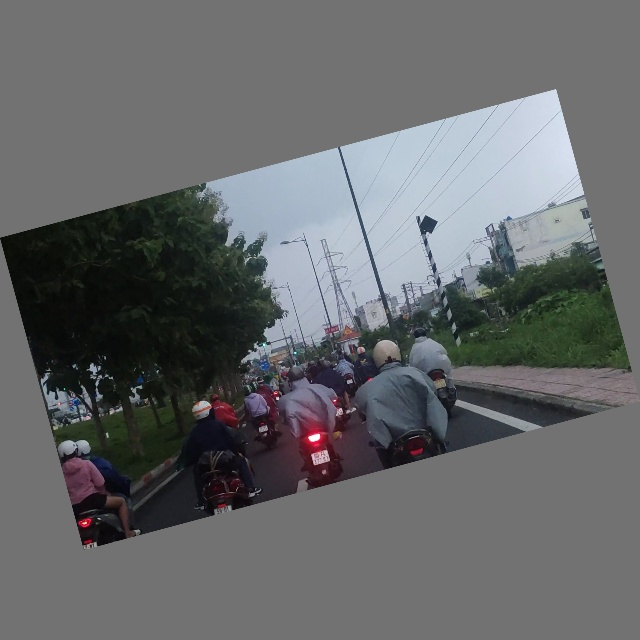W.210: (341, 324, 354, 337)
